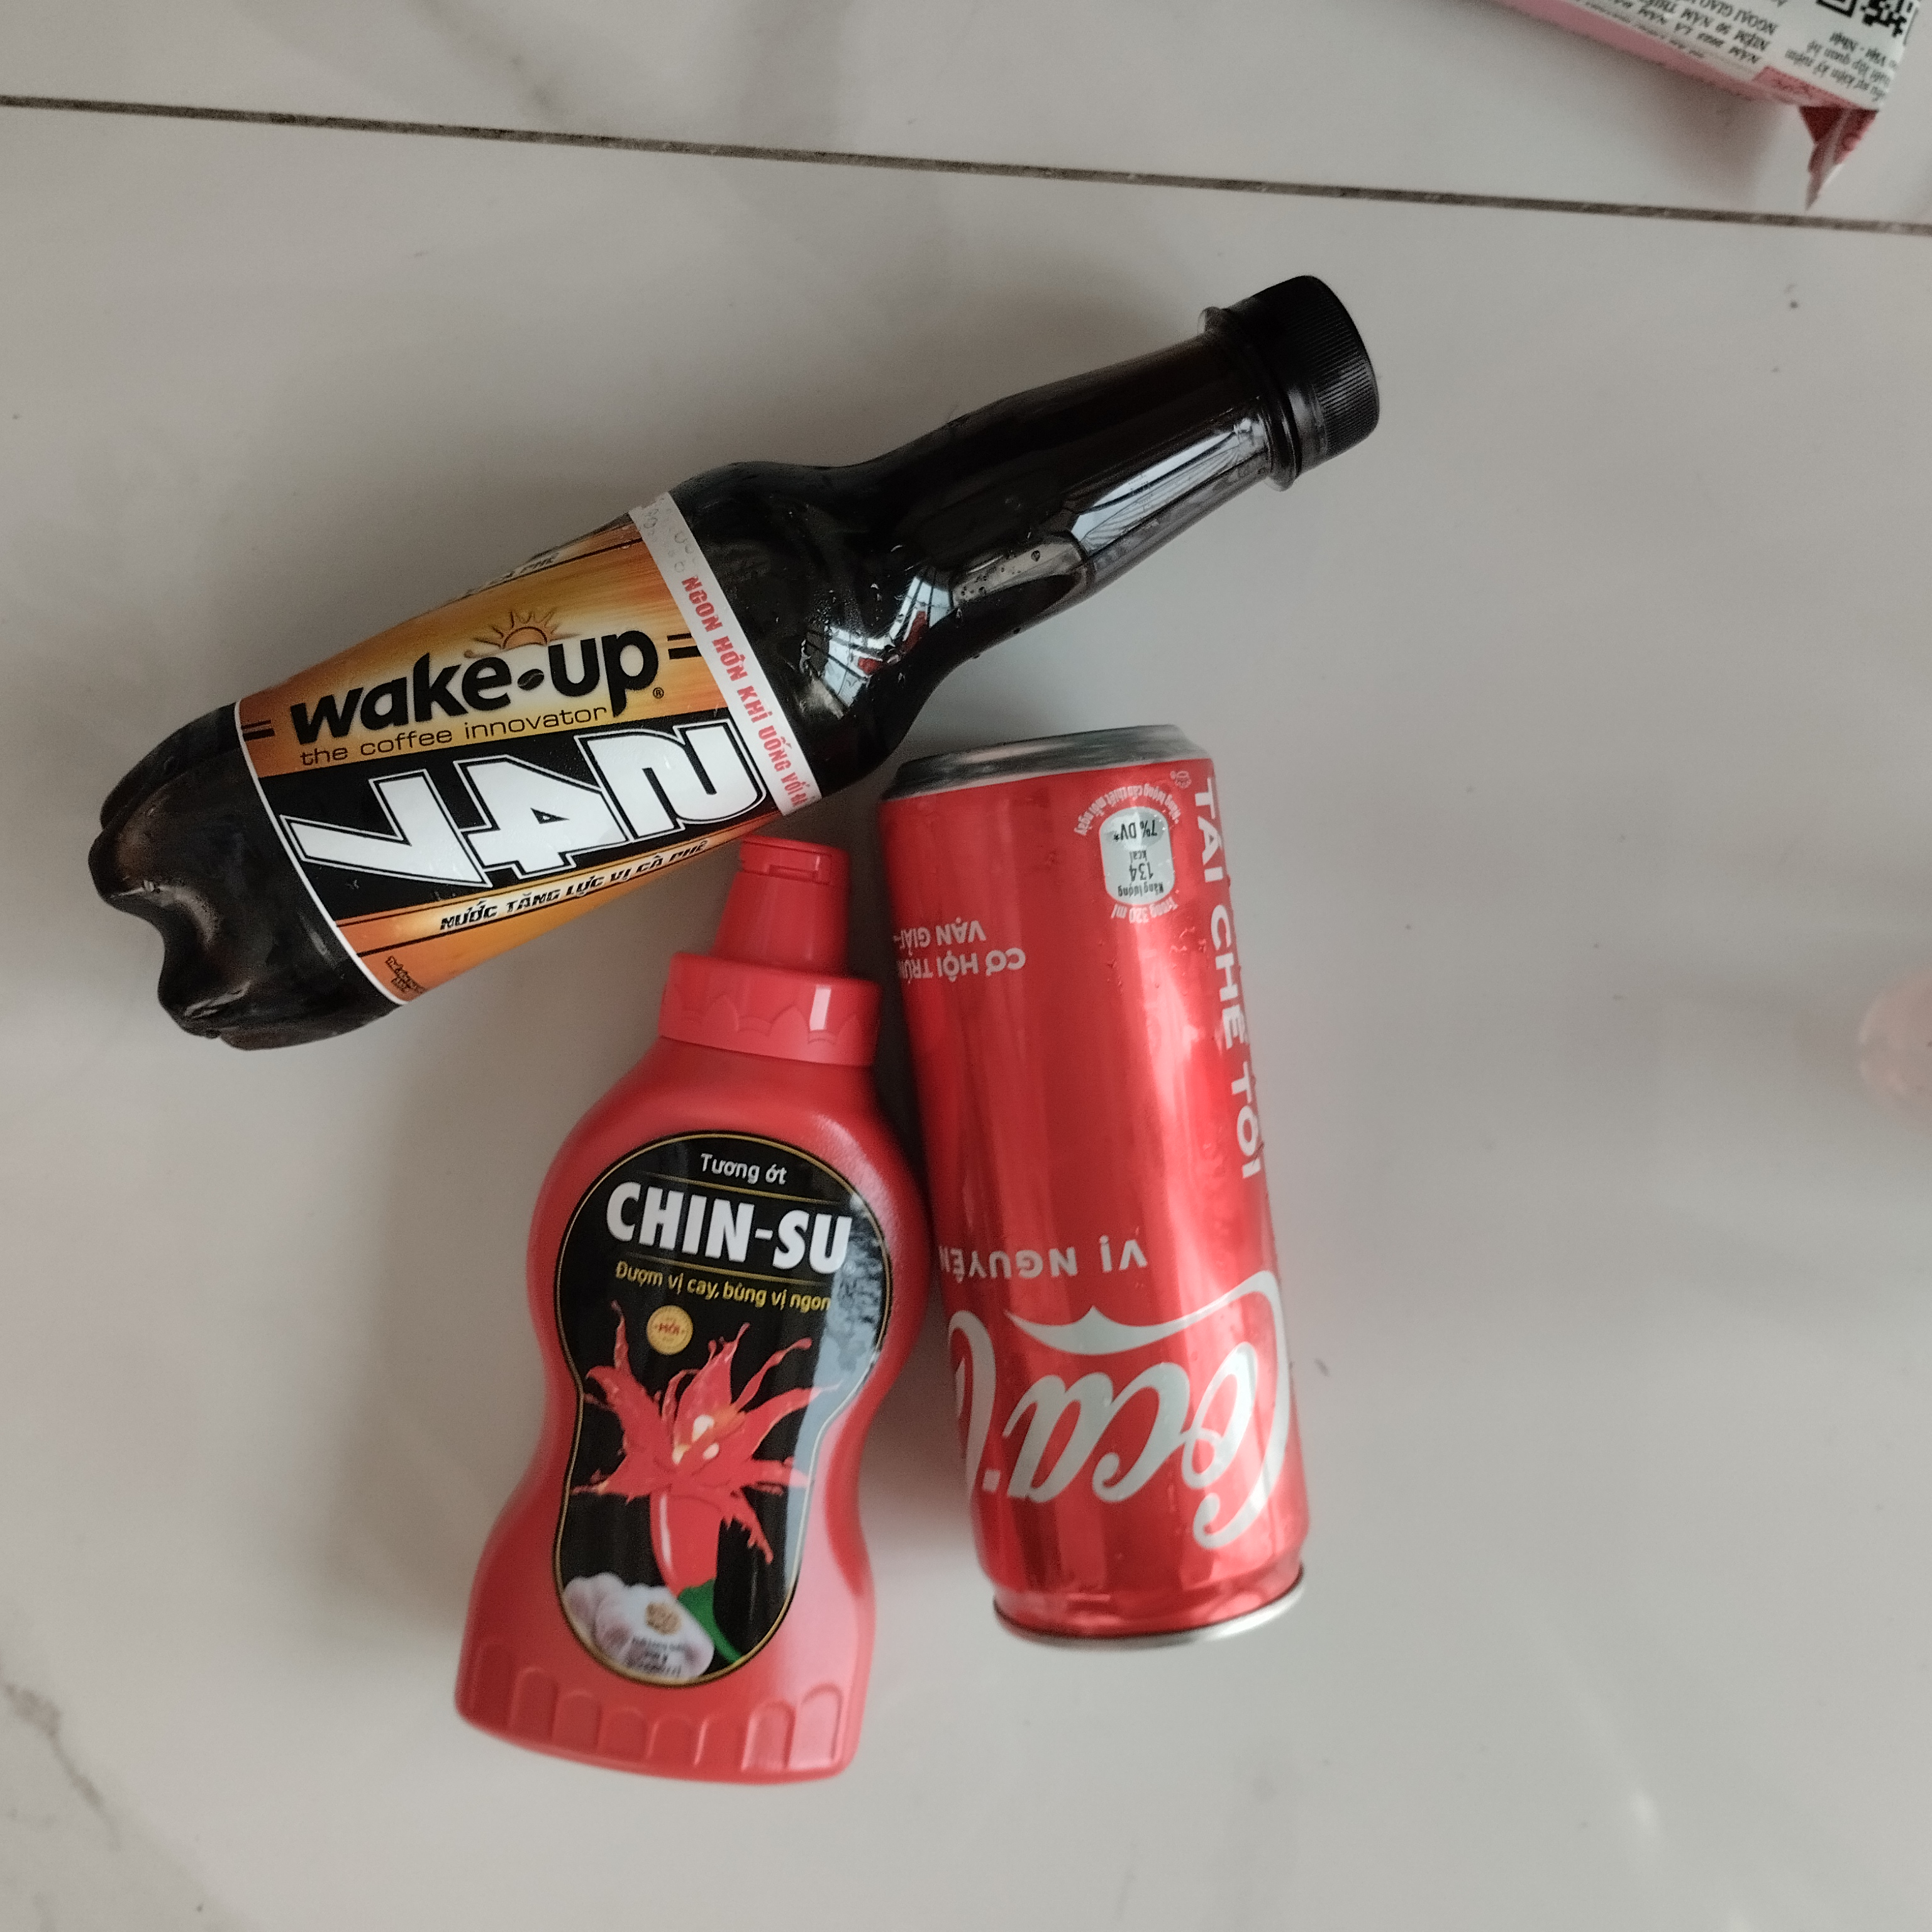247: (83, 262, 1389, 1083)
Chinsu: (456, 824, 936, 1798)
Coca: (863, 720, 1322, 1660)
